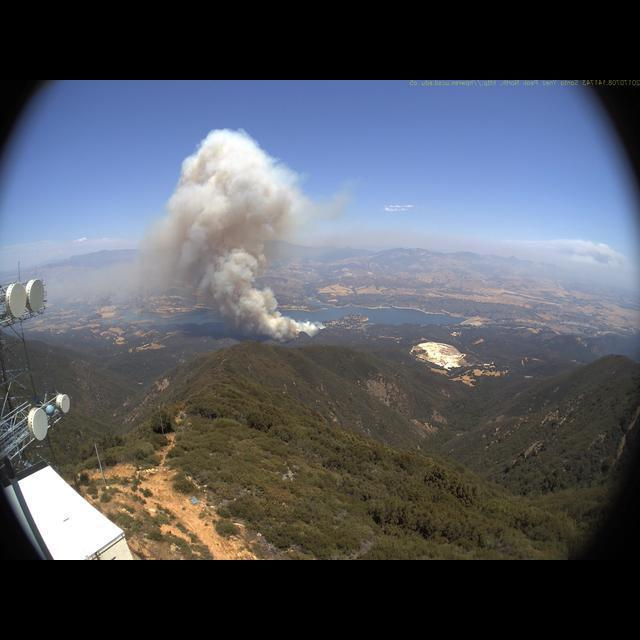Smoke: (138, 123, 335, 341)
